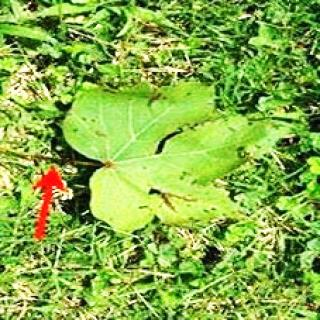blight: (128, 81, 256, 224)
